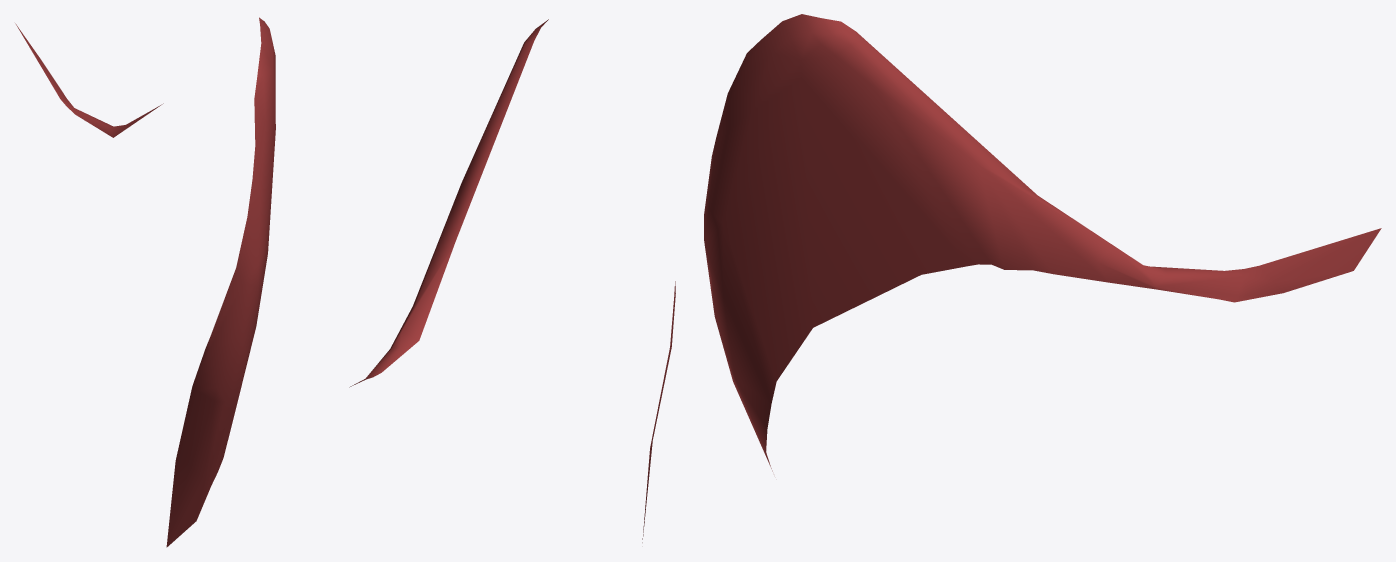
File: temporalis-muscle-el.glb
3 renders of one model, left to right at view 1: azimuth 30°, elevation 25°; view 2: azimuth 150°, elevation 25°; view 3: azimuth 270°, elevation 25°, orthographic. The views are drawn at different scales.
Visible parts, largest first — view 1: Temporalis muscle.el; view 2: Temporalis muscle.el; view 3: Temporalis muscle.el.
Boxes of the visible parts, <box> form: Temporalis muscle.el: <box>15,17,275,547</box>; Temporalis muscle.el: <box>349,19,675,542</box>; Temporalis muscle.el: <box>704,14,1381,471</box>.
Size of the model in its own units: 0.00495 by 0.021 by 0.0222.
